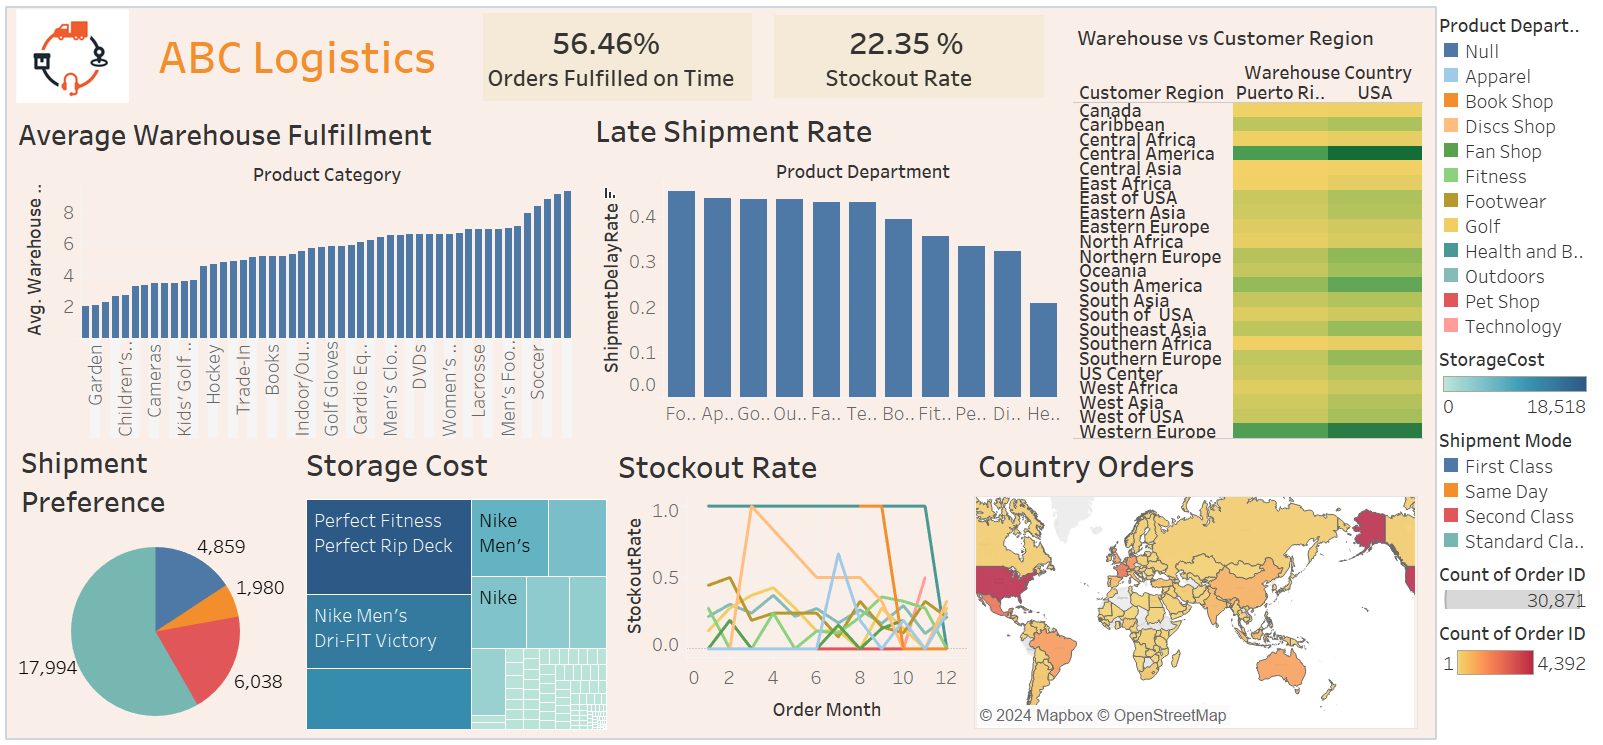

Layout of this report page (visuals, bound fields, positions):
{"tool":"tableau","page":{"name":"Dashboard ","canvas":[1000,1000],"units":"permille","ordinal":0},"visuals":[{"type":"legend","title":"Stockoutrate","param":"[federated.0xzze2a1fvxw4i100viou15i0tl6].[none:Product Department:nk]","box":[895.3,10.7,99.8,447.7]},{"type":"image","param":"Image/logo.png","box":[10.6,12.1,74.8,126]},{"type":"worksheet","title":"Orderfulfilled","mark":"Automatic","box":[301.8,17.4,167.7,118]},{"type":"worksheet","title":"StockOutRate","mark":"Automatic","box":[483.2,20.1,168.3,111.3]},{"type":"worksheet","title":"warehouse_region","mark":"Automatic","rows":["Customer Region"],"cols":["Warehouse Country"],"box":[669.6,25.5,218.2,563]},{"type":"text","box":[92.9,37.5,322.3,77.8]},{"type":"worksheet","title":"LateShipmentRate","mark":"Automatic","rows":["Calculation_231090964246740997"],"cols":["Product Department"],"box":[369.1,140.8,294.3,446.4]},{"type":"worksheet","title":"Fufillmenttime","mark":"Automatic","rows":["Warehouse Order Fulfillment (days) "],"cols":["Product Category"],"box":[9.3,147.5,347.9,439.7]},{"type":"legend","title":"StorageCost","param":"[federated.0xzze2a1fvxw4i100viou15i0tl6].[sum:Calculation_1480839860284010498:qk","box":[895.3,458.4,99.8,108.6]},{"type":"legend","title":"Shipment mode","param":"[federated.0xzze2a1fvxw4i100viou15i0tl6].[none:Shipment Mode:nk]","box":[895.3,567,99.8,179.6]},{"type":"worksheet","title":"Shipment mode","mark":"Pie","box":[11.2,587.1,172.7,394.1]},{"type":"worksheet","title":"StorageCost","mark":"Automatic","box":[188.9,588.5,192,394.1]},{"type":"worksheet","title":"Country orders","mark":"Automatic","box":[607.9,589.8,276.8,387.4]},{"type":"worksheet","title":"Stockoutrate","mark":"Automatic","rows":["Calculation_1480839860277641217"],"cols":["Order Month "],"box":[383.4,591.1,220.7,384.7]},{"type":"legend","title":"Shipment mode","param":"[federated.0xzze2a1fvxw4i100viou15i0tl6].[cnt:Order ID :qk]","box":[895.3,746.6,99.8,79.1]},{"type":"legend","title":"Country orders","param":"[federated.0xzze2a1fvxw4i100viou15i0tl6].[cnt:Order ID :qk]","box":[895.3,825.7,99.8,108.6]}]}

Visuals, with their boxes on the dashboard's canvas, which has no fixed pixel size, in thousandths of its width and height (x1, y1, x2, y2). These are canvas units, not pixel positions in the 1603x745 screenshot, which may show the page scaled, cropped or inside an application window:
"Stockoutrate" legend: bbox(895, 11, 995, 458)
image: bbox(11, 12, 85, 138)
"Orderfulfilled" worksheet: bbox(302, 17, 470, 135)
"StockOutRate" worksheet: bbox(483, 20, 652, 131)
"warehouse_region" worksheet: bbox(670, 26, 888, 588)
text: bbox(93, 38, 415, 115)
"LateShipmentRate" worksheet: bbox(369, 141, 663, 587)
"Fufillmenttime" worksheet: bbox(9, 148, 357, 587)
"StorageCost" legend: bbox(895, 458, 995, 567)
"Shipment mode" legend: bbox(895, 567, 995, 747)
"Shipment mode" worksheet (Pie marks): bbox(11, 587, 184, 981)
"StorageCost" worksheet: bbox(189, 588, 381, 983)
"Country orders" worksheet: bbox(608, 590, 885, 977)
"Stockoutrate" worksheet: bbox(383, 591, 604, 976)
"Shipment mode" legend: bbox(895, 747, 995, 826)
"Country orders" legend: bbox(895, 826, 995, 934)
